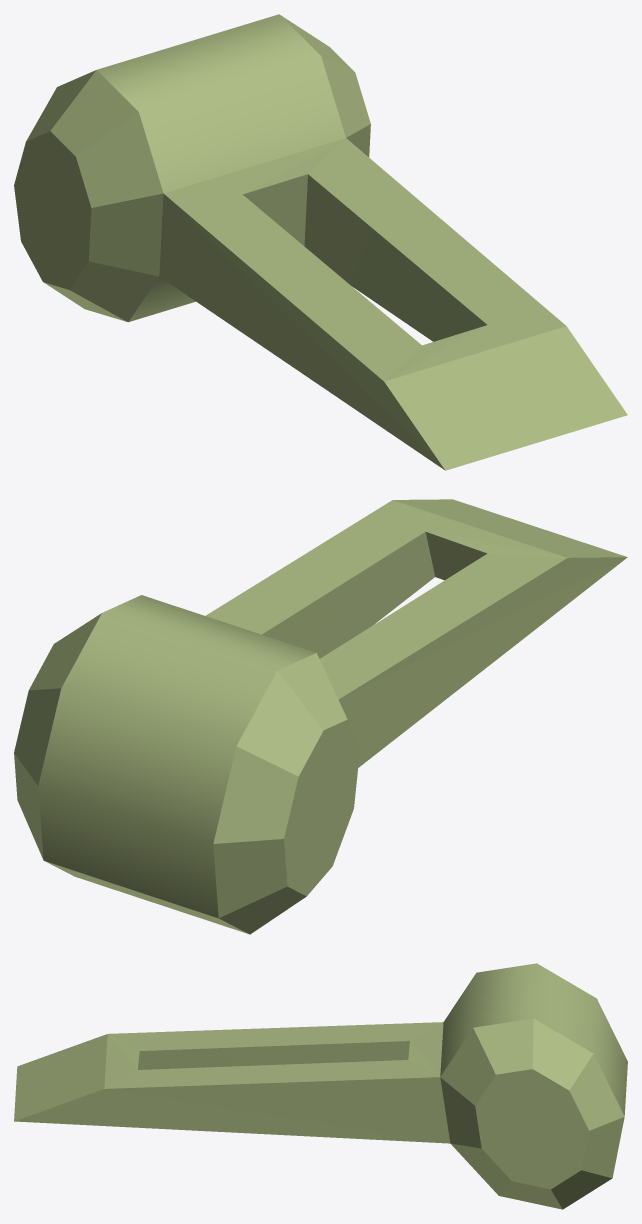
Rendered from SpiderLegRightBackB.FBX.
3 renders of one model, top to bottom at view 1: azimuth 30°, elevation 25°; view 2: azimuth 150°, elevation 25°; view 3: azimuth 270°, elevation 25°, orthographic. The views are drawn at different scales.
Visible parts, largest first — view 1: SpiderLegRightBackB; view 2: SpiderLegRightBackB; view 3: SpiderLegRightBackB.
Part boxes in pixels (box(x1,y1,x2,y2)): SpiderLegRightBackB: box(14, 14, 627, 470); SpiderLegRightBackB: box(14, 499, 627, 934); SpiderLegRightBackB: box(14, 963, 627, 1209).
Bounding box in the file's own units: 75.39 × 193 × 68.74.
